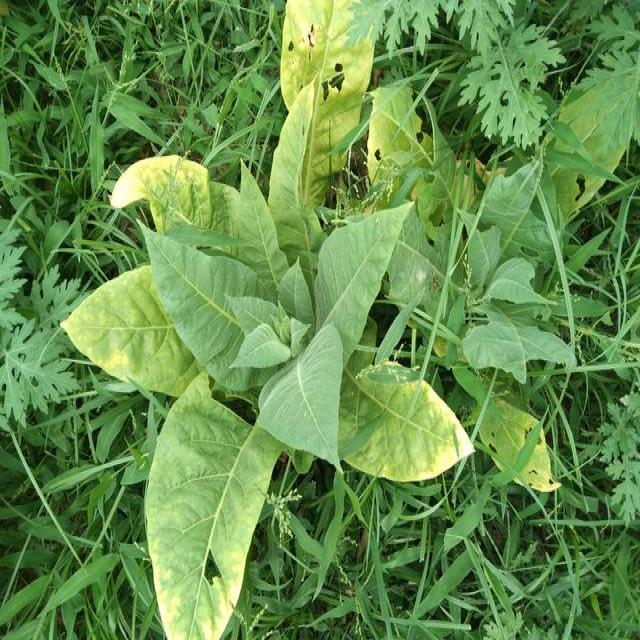crop: (64, 142, 474, 636)
